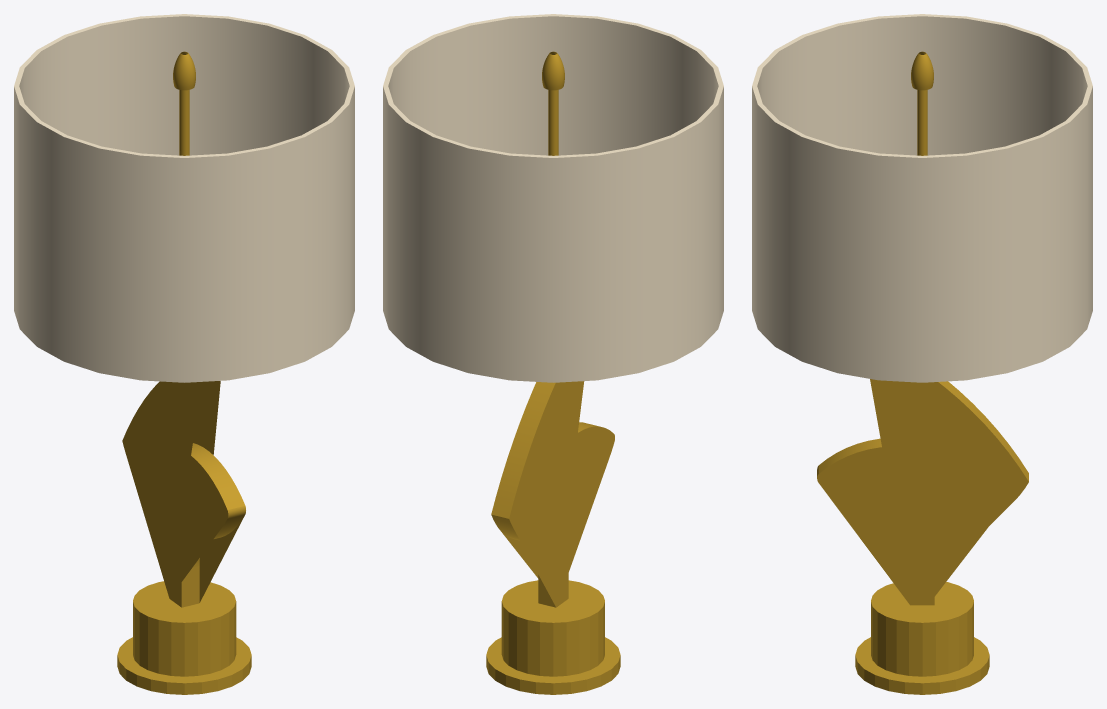
Rendered from Lamp.fbx.
3 renders of one model, left to right at view 1: azimuth 30°, elevation 25°; view 2: azimuth 150°, elevation 25°; view 3: azimuth 270°, elevation 25°, orthographic.
Visible parts, largest first — view 1: Model; view 2: Model; view 3: Model.
Part boxes in pixels (x1,y1,x2,y2): Model: (14,14,354,694); Model: (383,14,723,694); Model: (752,14,1092,694).
Bounding box in the file's own units: 251 × 499 × 251.
